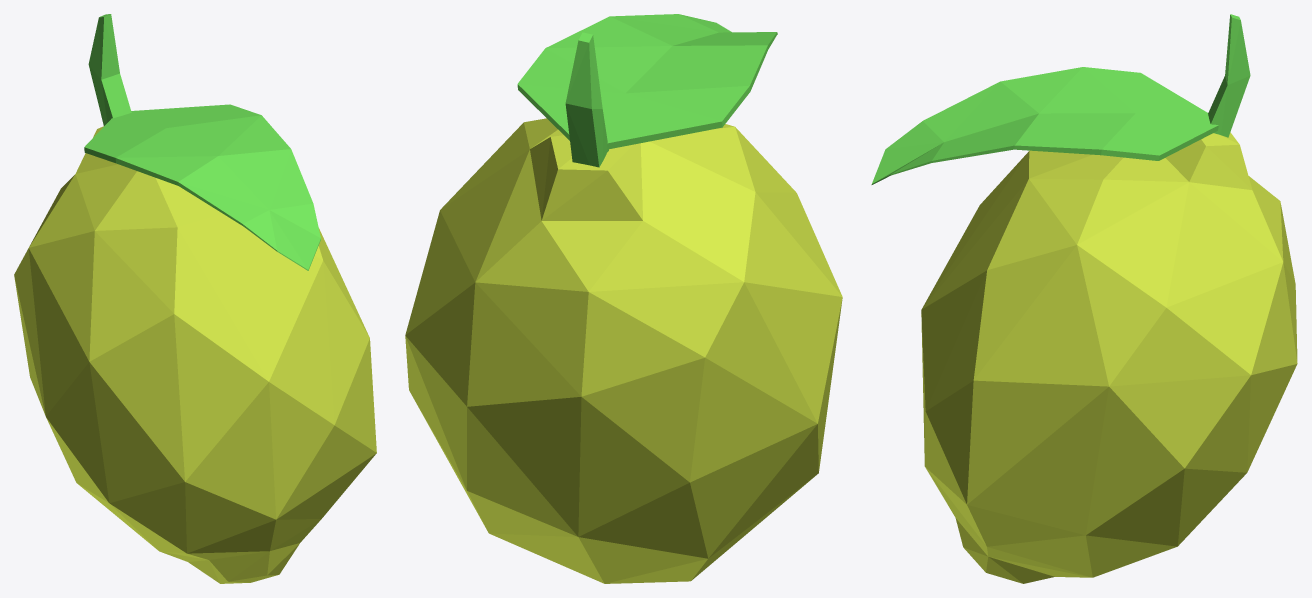
File: lemon.fbx
3 views of the same model, side by side, from view 1: azimuth 30°, elevation 25°; view 2: azimuth 150°, elevation 25°; view 3: azimuth 270°, elevation 25° (orthographic). The views are drawn at different scales.
Parts seen in each view (by area): view 1: Lemon; view 2: Lemon; view 3: Lemon.
Part boxes in pixels (x1=…): Lemon: x1=14, y1=14, x2=376, y2=583; Lemon: x1=405, y1=14, x2=842, y2=583; Lemon: x1=871, y1=14, x2=1297, y2=583.
Bounding box in the file's own units: 55.26 × 89.37 × 63.73.
